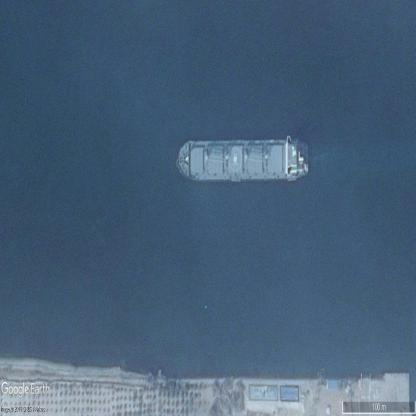ship: (177, 139, 309, 181)
